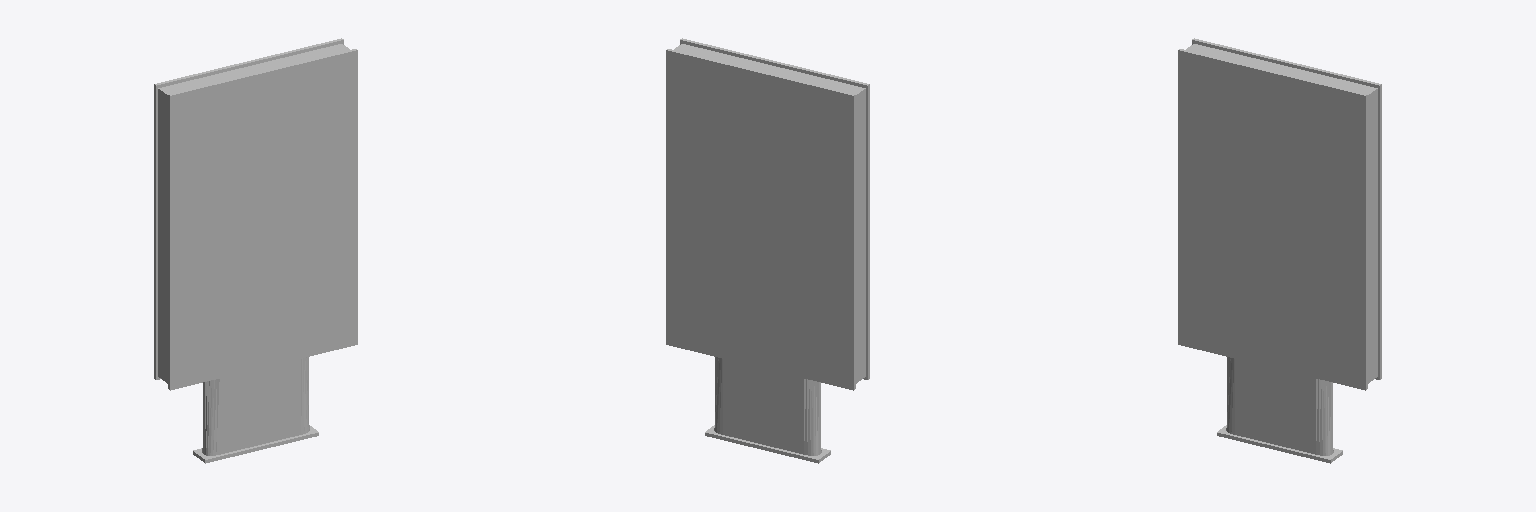
The model's file is billboardUVFace2.obj.
3 renders of one model, left to right at view 1: azimuth 30°, elevation 25°; view 2: azimuth 150°, elevation 25°; view 3: azimuth 330°, elevation 25°, orthographic.
Visible parts, largest first — view 1: Box002.001, Box002; view 2: Box002.002, Box002; view 3: Box002.001, Box002.
Part boxes in pixels (bbox=[...]): Box002.001: bbox=[182, 64, 345, 376]; Box002: bbox=[154, 38, 357, 463]; Box002.002: bbox=[677, 64, 842, 375]; Box002: bbox=[666, 38, 869, 463]; Box002.001: bbox=[1190, 64, 1353, 376]; Box002: bbox=[1178, 38, 1381, 463].
Bounding box in the file's own units: 1.2 × 2.31 × 0.1774.